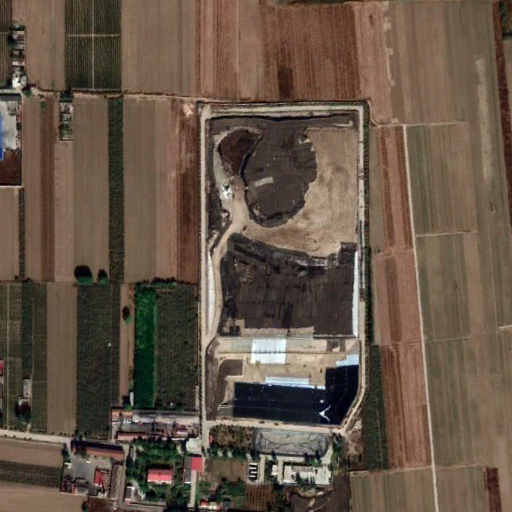lf: (199, 101, 363, 426)
